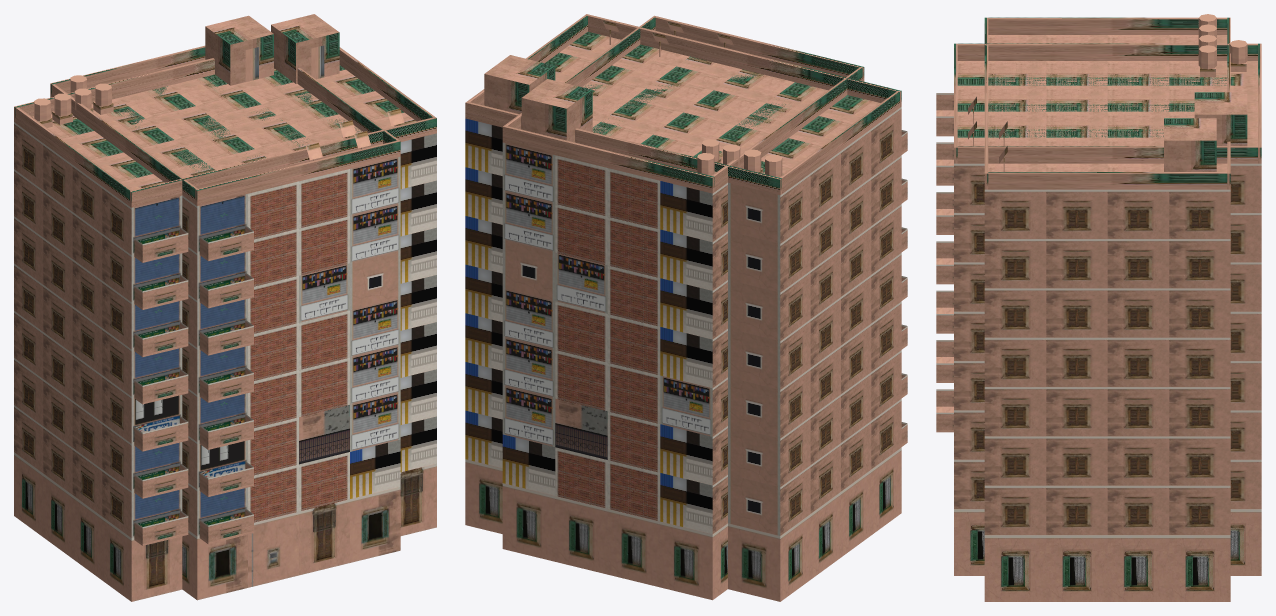
3 views of the same model, side by side, from view 1: azimuth 30°, elevation 25°; view 2: azimuth 150°, elevation 25°; view 3: azimuth 270°, elevation 25° (orthographic). The views are drawn at different scales.
Visible parts, largest first — view 1: Plaster_6x4_f7_v0, Plaster_4x5_f7_v0; view 2: Plaster_6x4_f7_v0, Plaster_4x5_f7_v0; view 3: Plaster_6x4_f7_v0, Plaster_4x5_f7_v0.
Boxes of the visible parts, x1=… form: Plaster_6x4_f7_v0: x1=14, y1=14, x2=436, y2=601; Plaster_4x5_f7_v0: x1=50, y1=15, x2=400, y2=600; Plaster_6x4_f7_v0: x1=465, y1=14, x2=907, y2=601; Plaster_4x5_f7_v0: x1=502, y1=15, x2=864, y2=600; Plaster_6x4_f7_v0: x1=984, y1=14, x2=1230, y2=601; Plaster_4x5_f7_v0: x1=936, y1=40, x2=1261, y2=575.
Bounding box in the file's own units: 21 × 28.6 × 18.5.
1 material, 1 textured.
